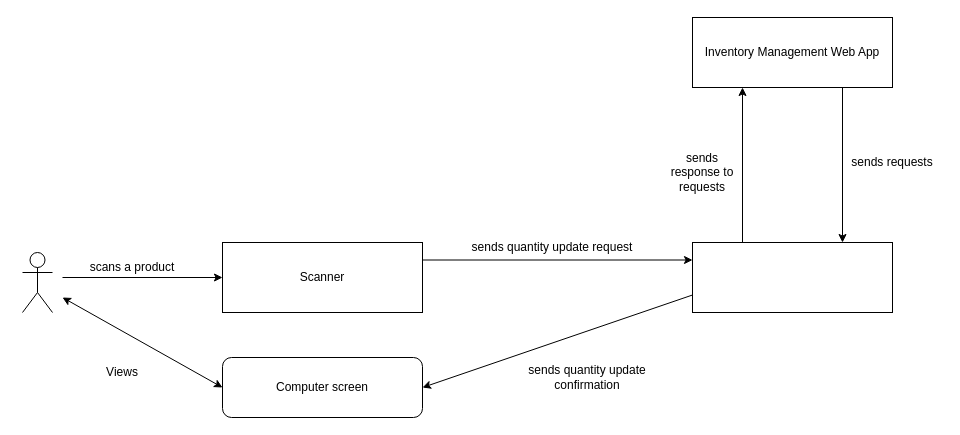
The diagram is 960 pixels wide and 435 high, and some of its shapes have lost their labels. Here are the shapes that lost their labels. From the top down, the centre of each, then its label:
point 37,282: Cashier
point 792,277: Inventory Management API
